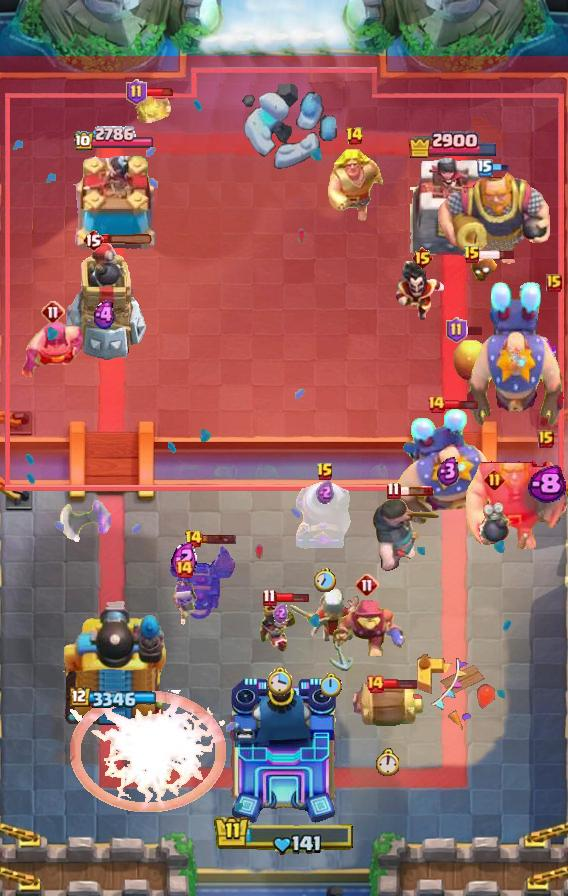archer-evolution: (167, 540, 241, 622)
balloon: (462, 451, 568, 549)
barbarian-evolution: (70, 690, 228, 812)
bomber: (469, 252, 497, 284)
bomber-evolution: (259, 602, 301, 656)
clock: (214, 816, 354, 857)
electro-spirit: (527, 465, 566, 504), (171, 540, 197, 578), (91, 300, 119, 330), (436, 456, 459, 486), (316, 480, 334, 504), (273, 603, 288, 623)
elixir: (267, 667, 293, 697), (375, 748, 399, 776), (314, 568, 336, 592), (321, 673, 343, 697)
emote: (102, 234, 154, 245), (444, 398, 479, 411), (480, 249, 517, 261), (200, 533, 237, 545), (398, 485, 434, 497), (275, 592, 310, 604), (383, 678, 416, 690), (144, 87, 176, 97), (491, 162, 510, 174), (464, 325, 484, 336)
fireball: (327, 598, 407, 672)
giant-skeleton: (436, 167, 552, 267)
goblin: (169, 581, 199, 627)
goblin-cage: (293, 482, 357, 552)
goblin-hut: (325, 149, 382, 222)
hog: (451, 335, 489, 383)
ice-golem: (476, 492, 512, 550)
ice-spirit-evolution: (131, 91, 173, 127)
king-tower: (228, 676, 340, 826)
little-prince: (464, 281, 568, 429), (392, 406, 504, 526)
lumberjack: (393, 261, 451, 325)
monk: (21, 321, 85, 381)
poison: (287, 582, 375, 656)
queen-tower: (68, 156, 160, 256), (410, 156, 496, 256)
royal-giant: (59, 498, 111, 548)
royal-hog: (369, 496, 445, 574)
selected: (407, 129, 499, 158), (73, 126, 155, 154), (69, 686, 158, 710)
text: (41, 300, 65, 324), (355, 573, 379, 597), (411, 246, 434, 270), (126, 79, 147, 105), (446, 317, 467, 343), (82, 228, 104, 252), (483, 469, 504, 490), (426, 394, 446, 414), (174, 559, 194, 579), (365, 674, 385, 694), (344, 126, 363, 146), (184, 529, 203, 549), (463, 245, 481, 265), (316, 462, 334, 482), (477, 159, 493, 177), (546, 274, 562, 292), (538, 430, 554, 448), (263, 589, 277, 608), (387, 481, 401, 499)
the-log: (349, 680, 425, 730)
tower-bar: (58, 595, 170, 731)
zappy: (64, 240, 149, 364)
